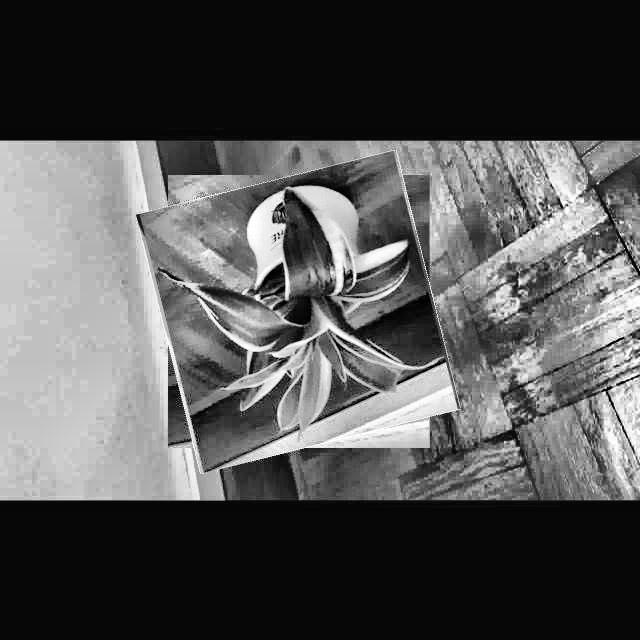plants: (150, 163, 447, 459)
